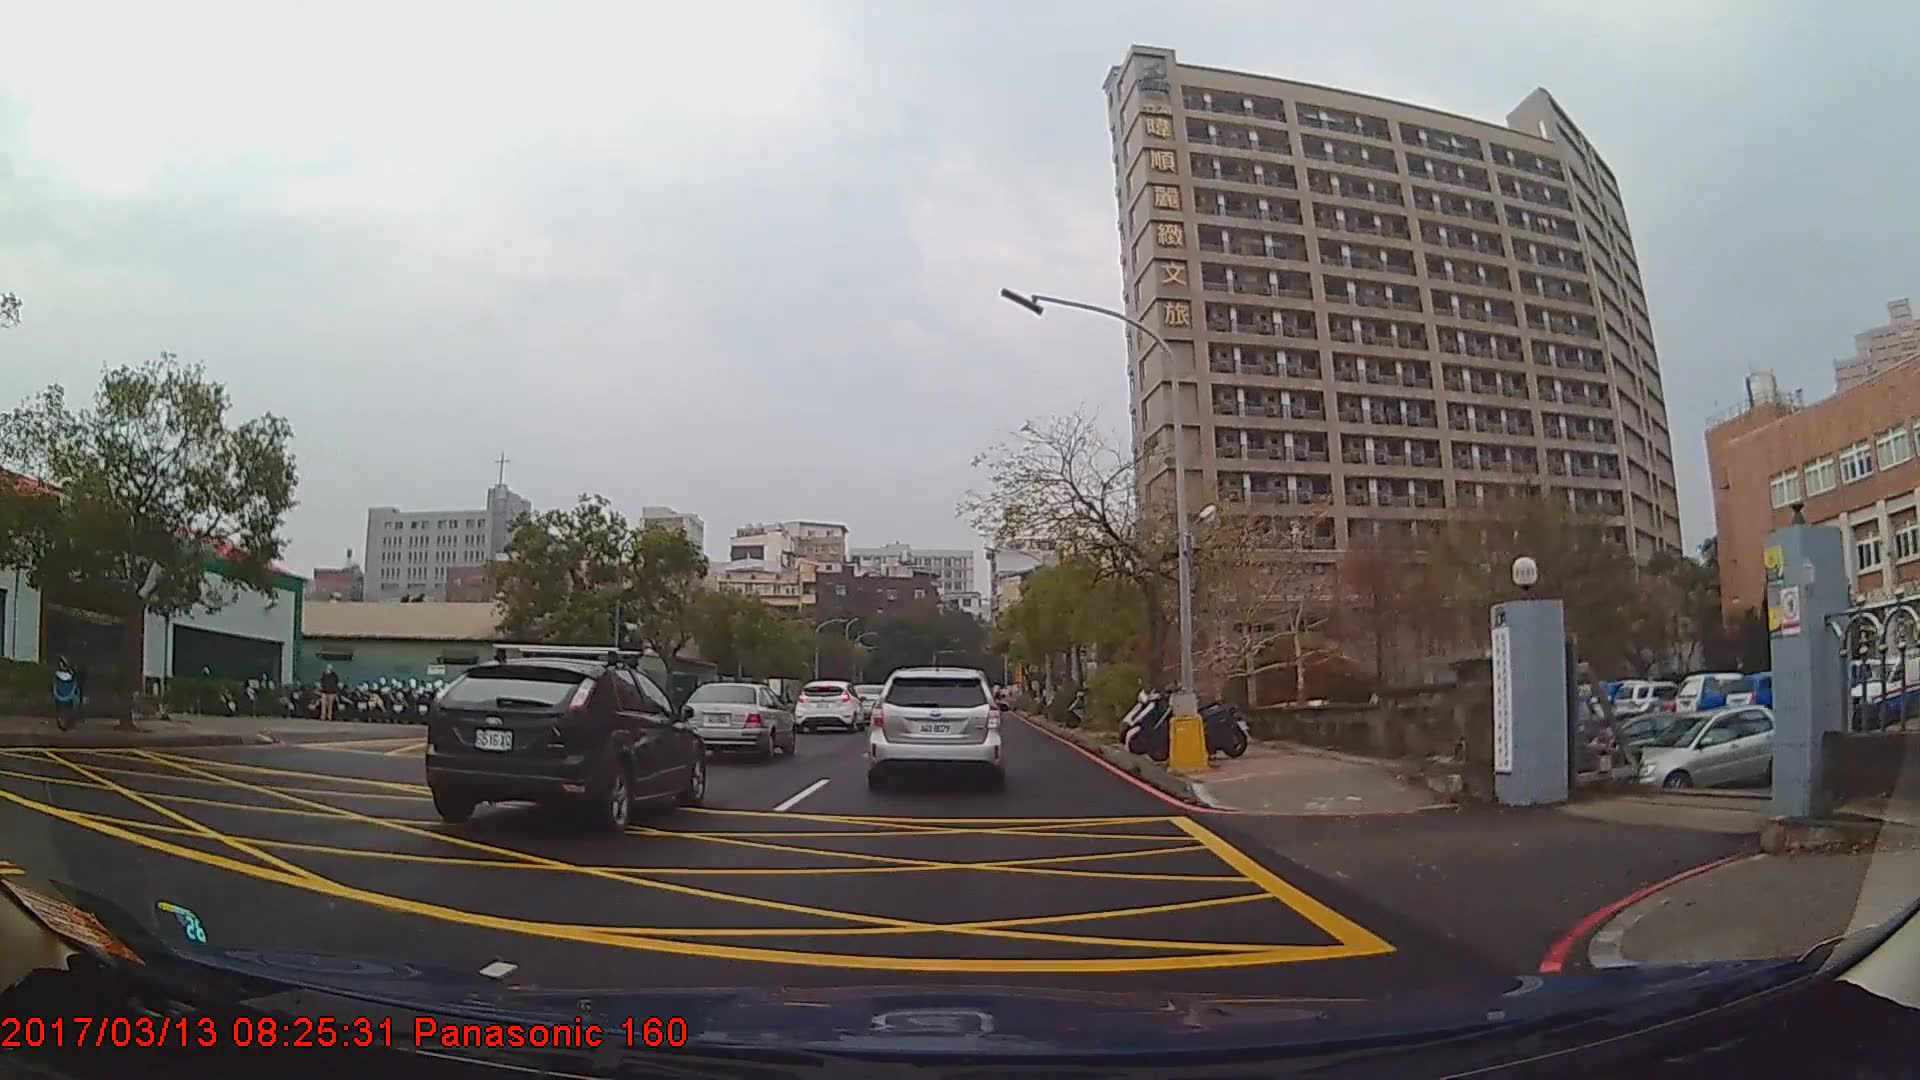pedestrian: (319, 663, 340, 721)
vehicle: (421, 655, 703, 834), (1618, 704, 1809, 791), (868, 665, 1000, 788), (677, 680, 796, 762), (793, 679, 864, 734)
